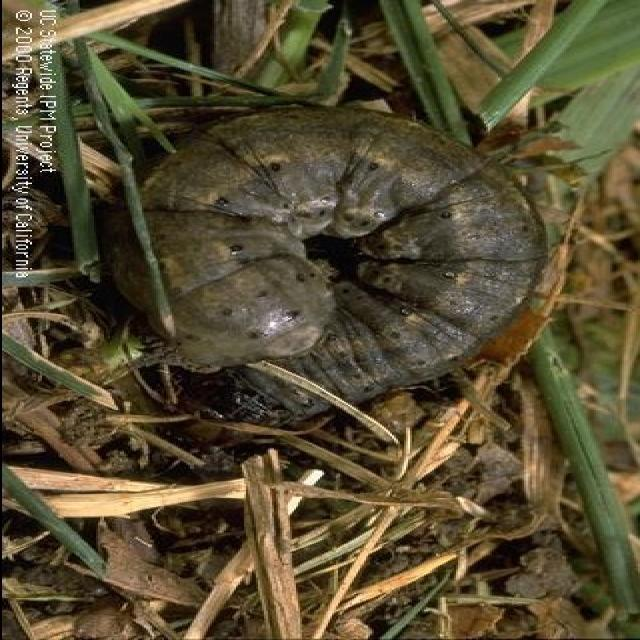black cutworm: (130, 108, 560, 434)
